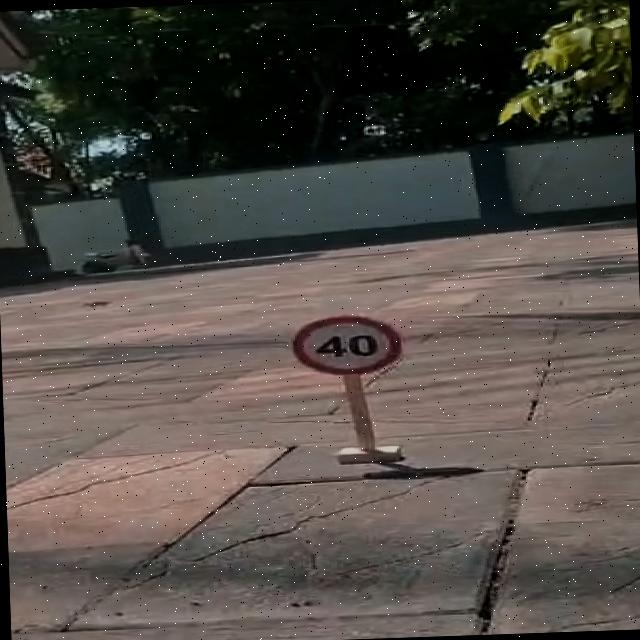Speed40: (284, 309, 414, 379)
